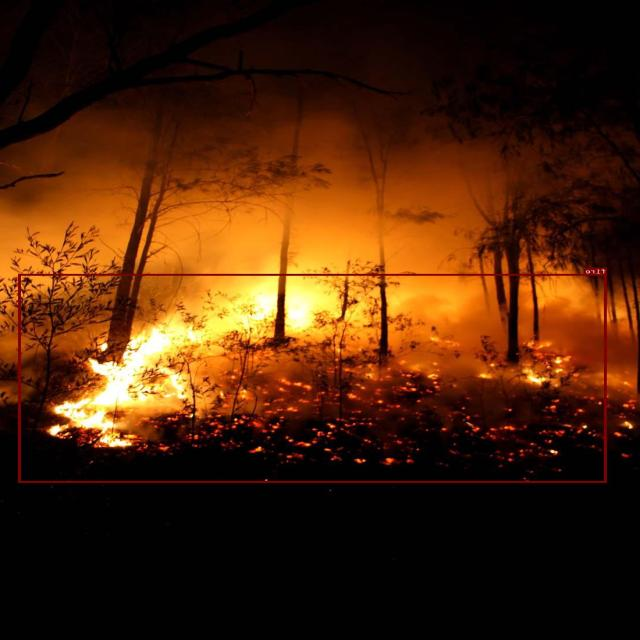fire: (19, 274, 607, 482)
